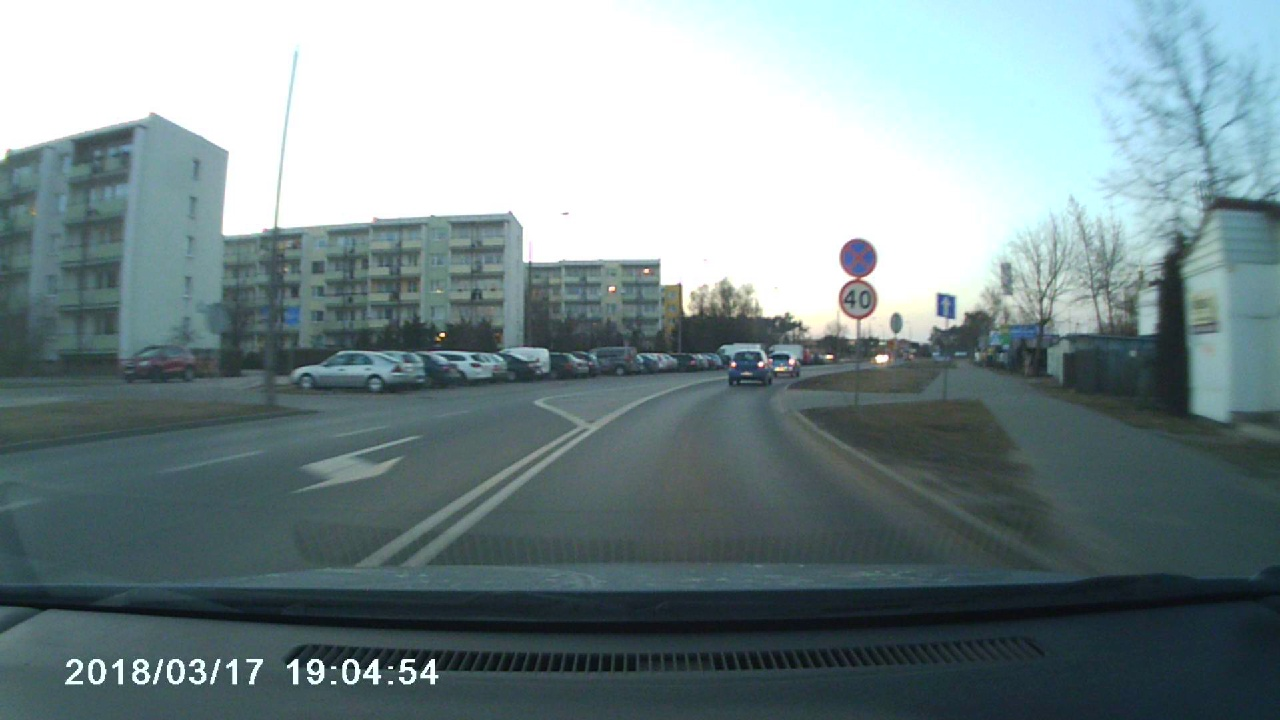B33_40: (838, 279, 878, 319)
B36: (840, 238, 878, 277)
D3: (936, 293, 957, 318)
